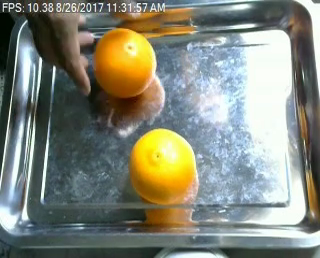Orange: (129, 127, 197, 204), (92, 27, 156, 98)
